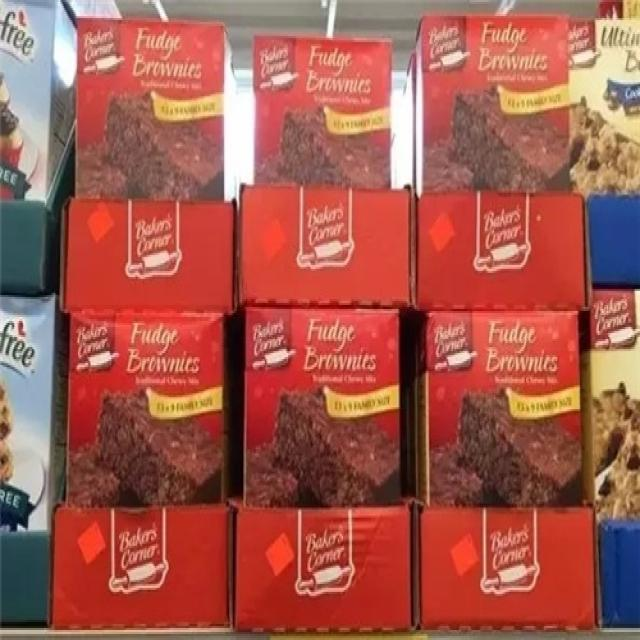box: (232, 307, 420, 631), (412, 306, 599, 630), (50, 315, 234, 630), (400, 18, 591, 308), (58, 18, 237, 317), (237, 34, 414, 306), (0, 292, 71, 629), (0, 1, 78, 296), (579, 285, 639, 630), (567, 16, 639, 285)
